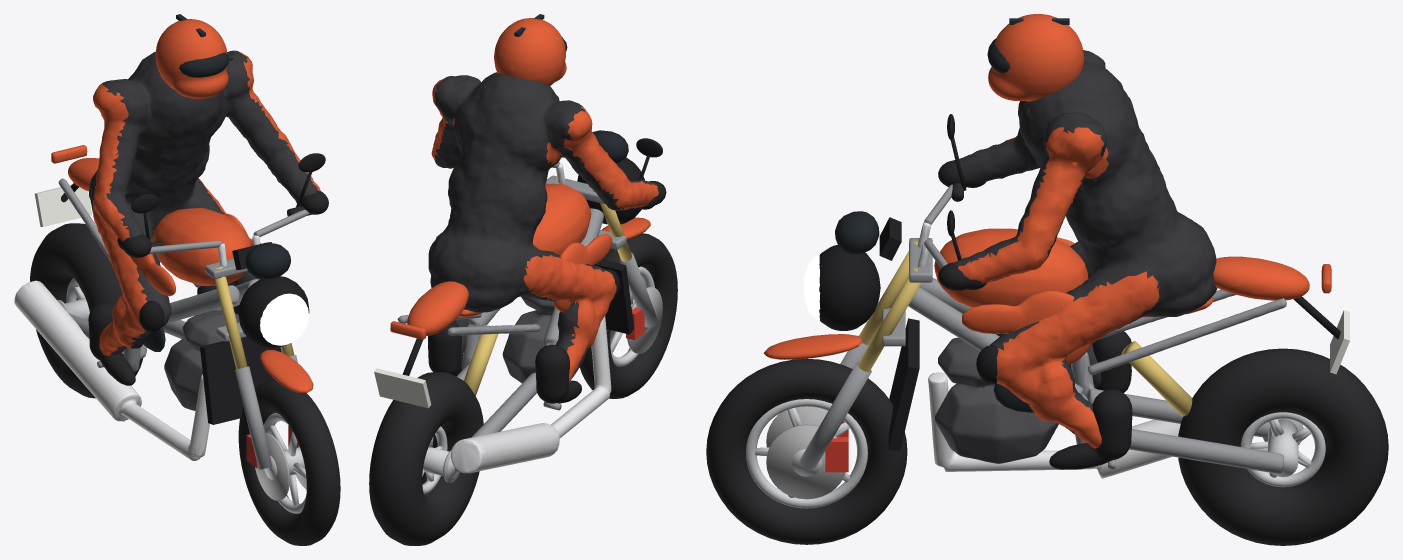
Rendered from bike_nightjar.glb.
3 renders of one model, left to right at view 1: azimuth 30°, elevation 25°; view 2: azimuth 150°, elevation 25°; view 3: azimuth 270°, elevation 25°, orthographic. The views are drawn at different scales.
Visible parts, largest first — view 1: Body, WheelMesh_Wheel_Front, WheelMesh_Wheel_Rear; view 2: Body, WheelMesh_Wheel_Rear, WheelMesh_Wheel_Front; view 3: Body, WheelMesh_Wheel_Rear, WheelMesh_Wheel_Front.
Boxes of the visible parts, left/top/right/bottom form: Body: left=14, top=14, right=328, bottom=469; WheelMesh_Wheel_Front: left=238, top=379, right=340, bottom=545; WheelMesh_Wheel_Rear: left=30, top=223, right=142, bottom=398; Body: left=374, top=14, right=666, bottom=473; WheelMesh_Wheel_Rear: left=369, top=372, right=483, bottom=545; WheelMesh_Wheel_Front: left=579, top=233, right=677, bottom=398; Body: left=763, top=14, right=1349, bottom=478; WheelMesh_Wheel_Rear: left=1178, top=348, right=1388, bottom=545; WheelMesh_Wheel_Front: left=706, top=358, right=907, bottom=544.
Bounding box in the file's own units: 0.9327 × 1.97 × 2.32.
